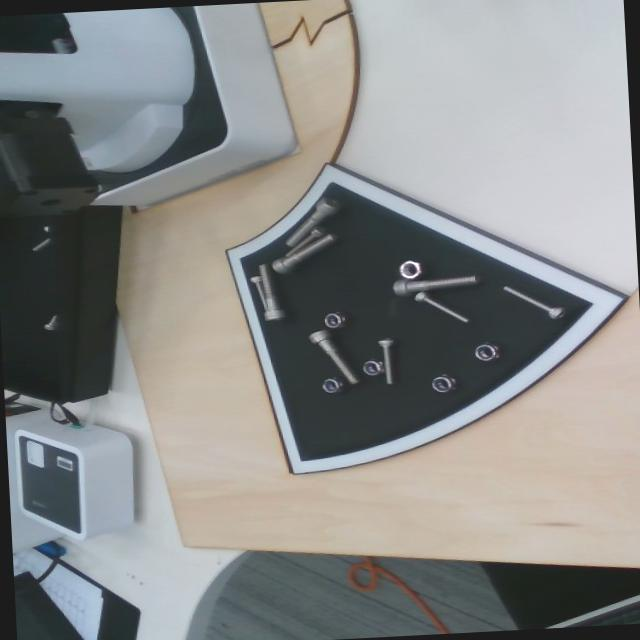big: (277, 193, 341, 250), (307, 324, 360, 392), (269, 228, 339, 278), (392, 268, 479, 296), (255, 261, 287, 322)
board: (221, 153, 628, 479)
circle: (427, 370, 460, 396), (473, 343, 502, 364), (397, 259, 426, 280), (319, 375, 348, 396), (322, 311, 351, 331), (361, 359, 384, 378)
small: (496, 284, 569, 326), (411, 286, 469, 331), (279, 223, 328, 259), (248, 274, 270, 322), (377, 339, 394, 384)
